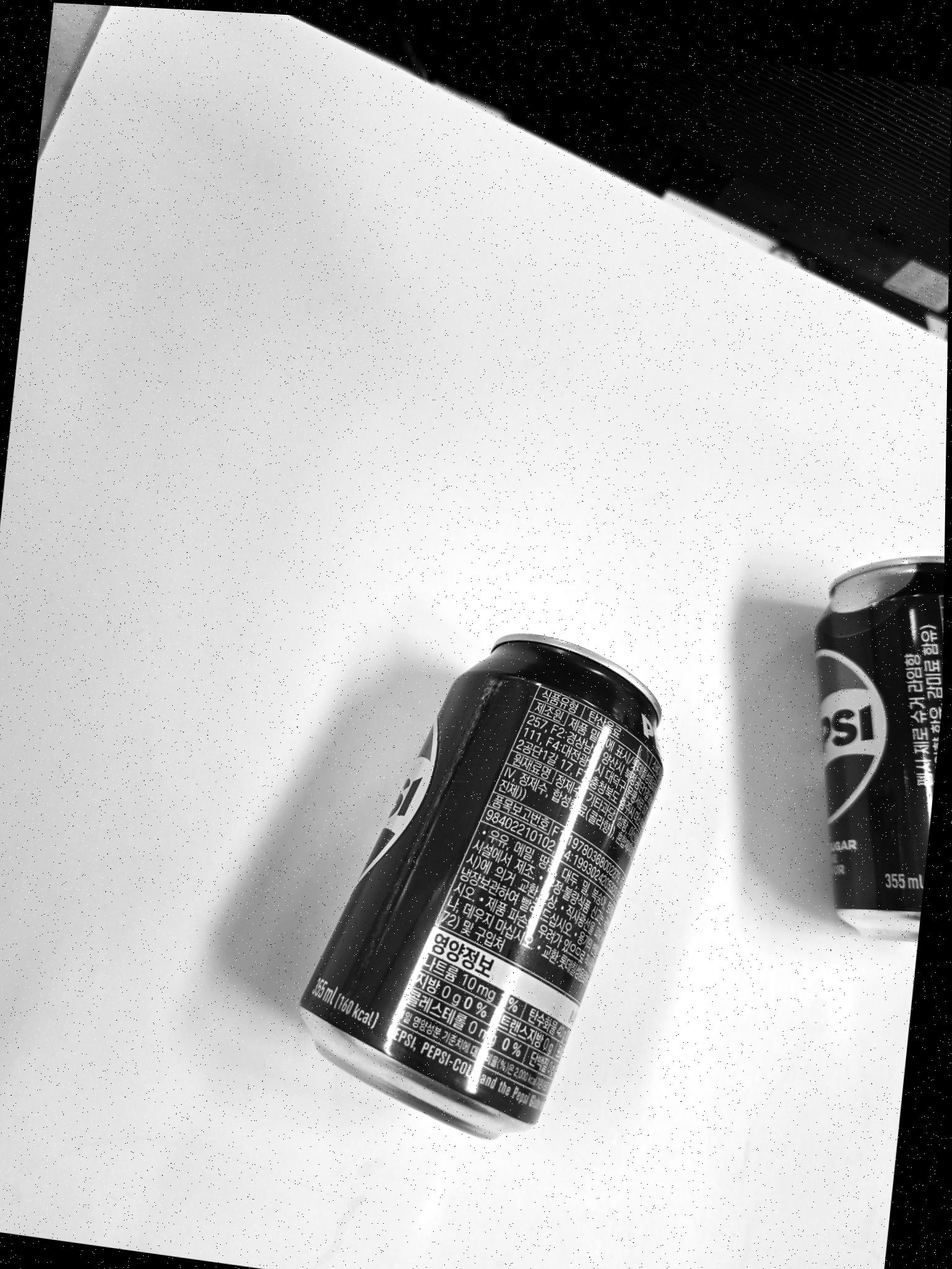can_pepsi: (303, 640, 671, 1138)
can_pepsi_zero: (805, 559, 944, 950)
